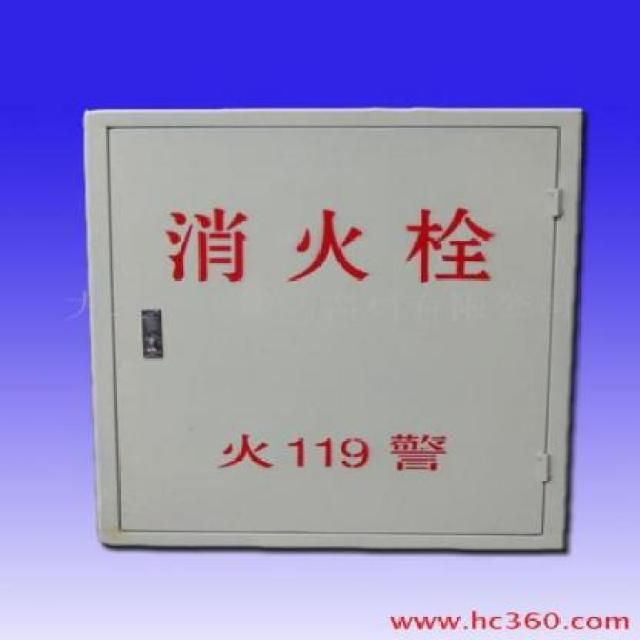firehydrant: (78, 103, 588, 558)
